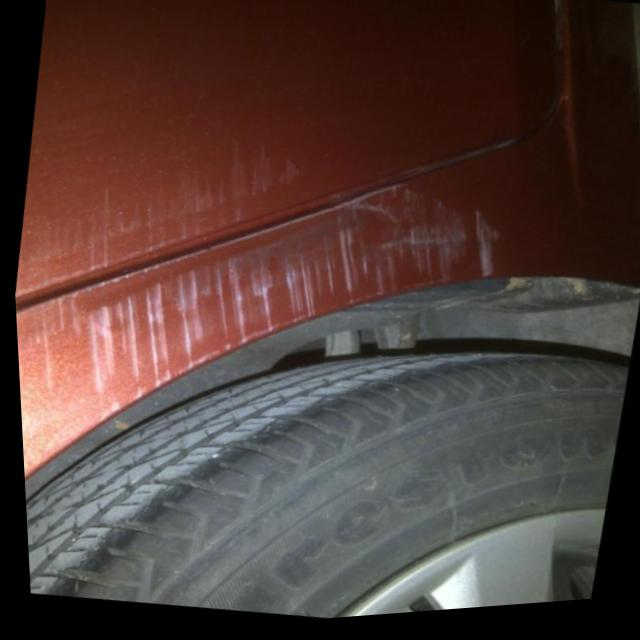Scratch: (71, 152, 508, 466)
